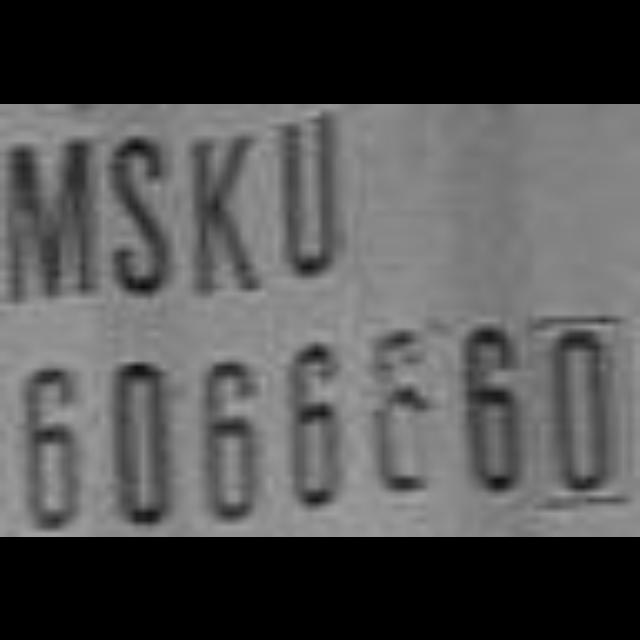0: (102, 351, 190, 535), (548, 316, 618, 499)
6: (0, 350, 94, 536), (192, 352, 272, 536), (280, 332, 350, 526), (462, 314, 530, 498)
8: (365, 323, 437, 503)
k: (186, 125, 266, 305)
m: (0, 121, 108, 313)
s: (106, 125, 180, 299)
u: (272, 106, 348, 290)
